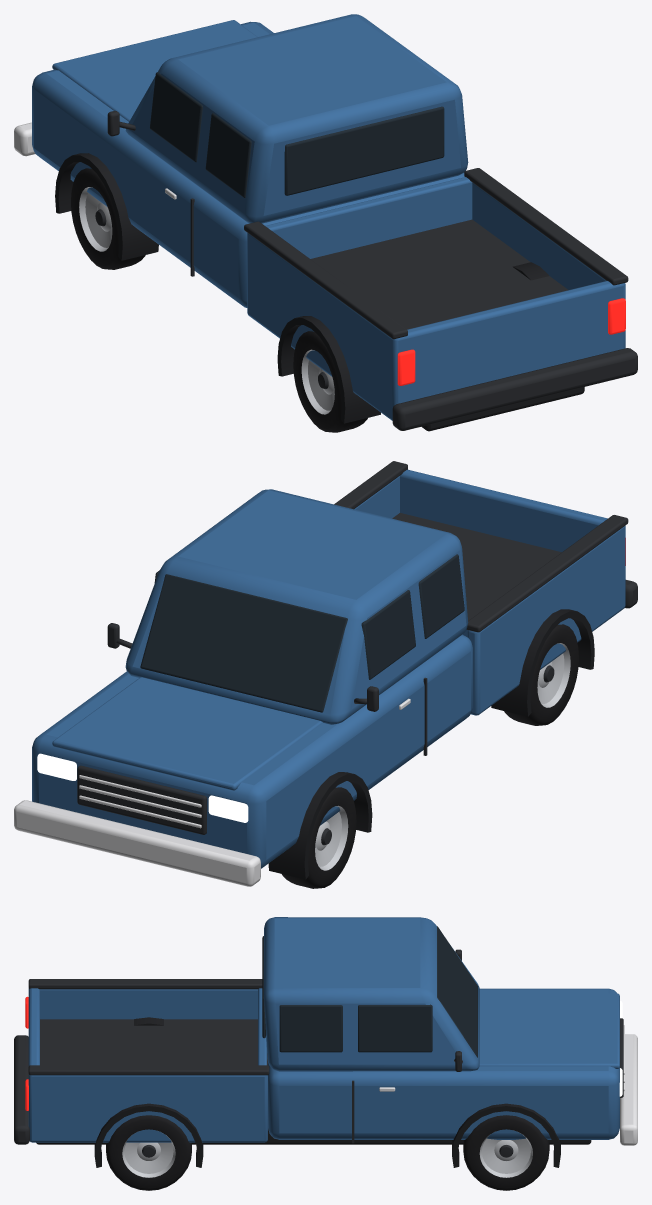
Rendered from pickup.fbx.
The picture shows the model from 3 angles, top to bottom: view 1: azimuth 30°, elevation 25°; view 2: azimuth 150°, elevation 25°; view 3: azimuth 270°, elevation 25°; orthographic projection. The views are drawn at different scales.
Visible parts, largest first — view 1: pickup; view 2: pickup; view 3: pickup.
Part boxes in pixels (x1,y1,x2,y2): pickup: (14,14,637,432); pickup: (14,461,637,888); pickup: (14,917,637,1190).
Bounding box in the file's own units: 2.2 × 1.88 × 5.5.
